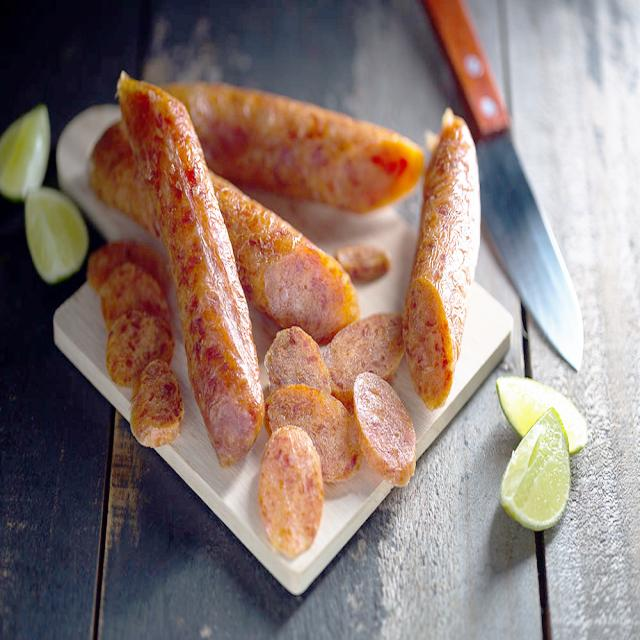chinese_sausage: (91, 78, 479, 556)
